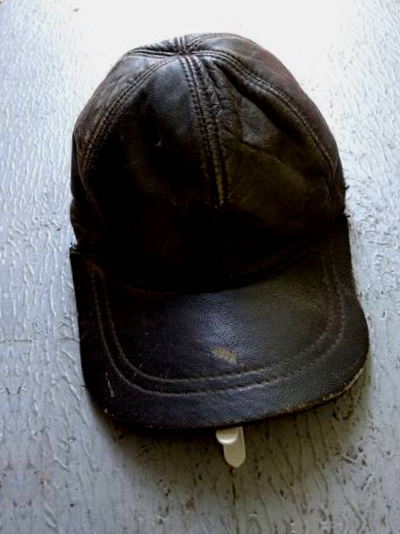Hat: (17, 11, 388, 465)
